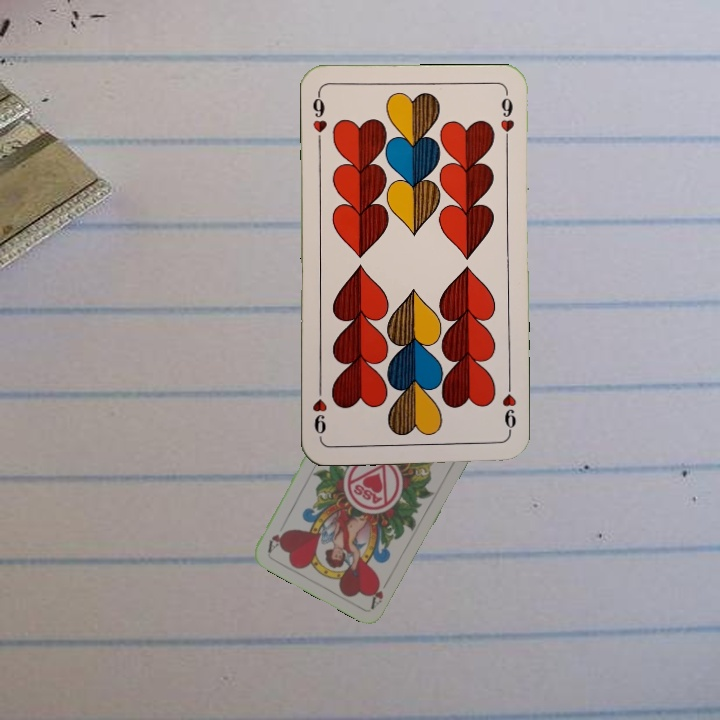H9: (308, 90, 329, 149), (498, 379, 519, 438)
HA: (367, 573, 393, 611)
